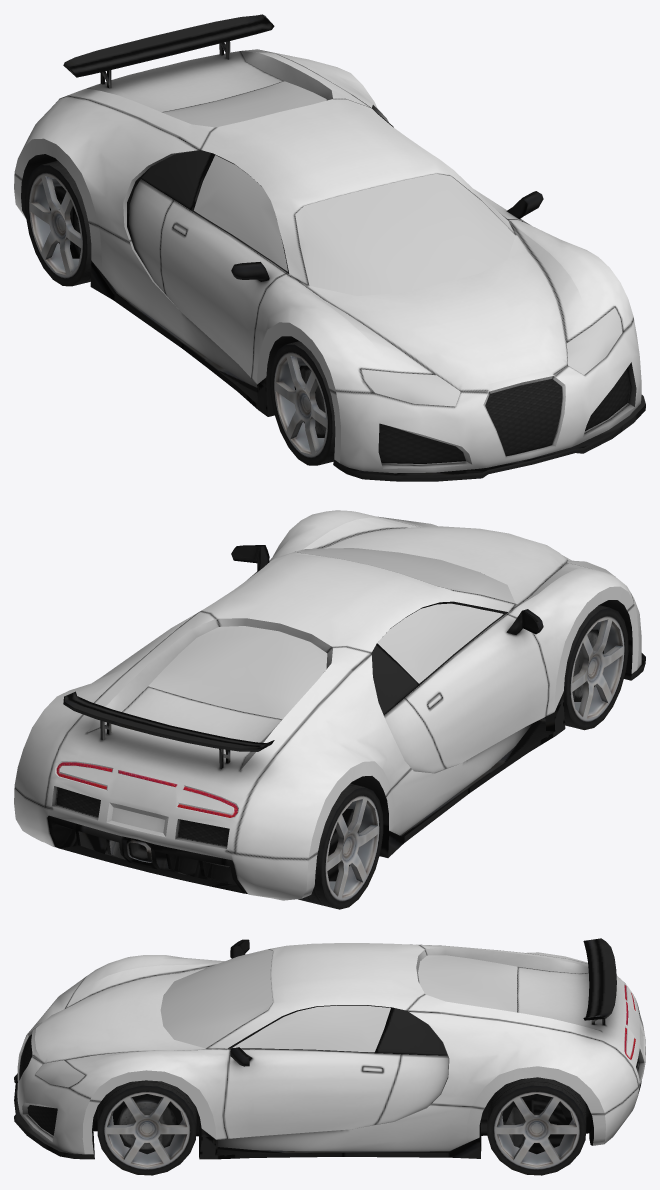
3 renders of one model, top to bottom at view 1: azimuth 30°, elevation 25°; view 2: azimuth 150°, elevation 25°; view 3: azimuth 270°, elevation 25°, orthographic. The views are drawn at different scales.
Visible parts, largest first — view 1: Body_29, Glass_29, Matte_29, Wheel_Back_R, Wheel_R, Glass_light; view 2: Body_29, Glass_29, Matte_29, Wheel_Back_R, Wheel_R, Taillights_29; view 3: Body_29, Glass_29, Matte_29, Wheel_Back_L, Wheel_L, Glass_light, break_L.
Part boxes in pixels (x1,y1,x2,y2): Body_29: (14, 49, 641, 473); Glass_29: (162, 81, 515, 295); Matte_29: (21, 14, 645, 481); Wheel_Back_R: (25, 161, 91, 286); Wheel_R: (270, 341, 335, 465); Glass_light: (361, 308, 622, 406); Body_29: (14, 510, 641, 900); Glass_29: (148, 548, 515, 719); Matte_29: (47, 545, 645, 893); Wheel_Back_R: (298, 783, 383, 909); Wheel_R: (563, 605, 628, 730); Taillights_29: (56, 762, 237, 817); Body_29: (17, 943, 645, 1154); Glass_29: (160, 949, 517, 1052); Matte_29: (14, 938, 641, 1159); Wheel_Back_L: (487, 1077, 586, 1175); Wheel_L: (97, 1080, 196, 1175); Glass_light: (35, 977, 84, 1087); break_L: (115, 1096, 178, 1154).
Size of the model in its own units: 79.93 by 47.77 by 178.
